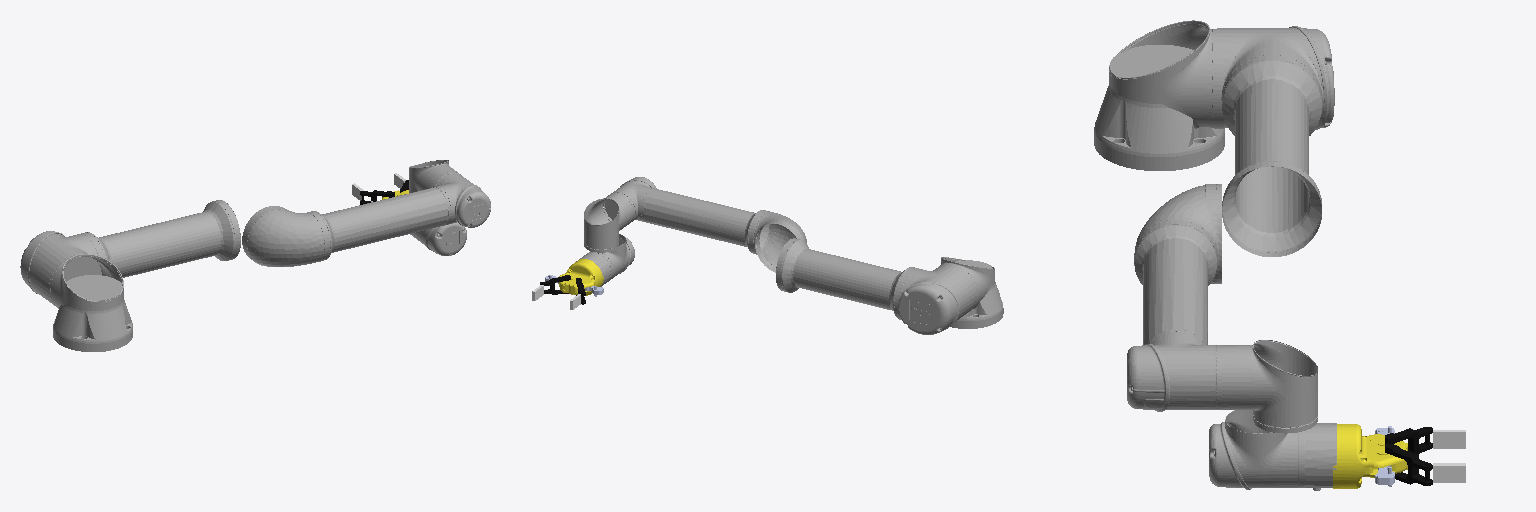
--- Render facts (derived) ---
The picture shows the robot from 3 angles, left to right: view 1: azimuth 30°, elevation 25°; view 2: azimuth 150°, elevation 25°; view 3: azimuth 270°, elevation 25°; orthographic projection.
Model ur5e with 23 links and 22 joints (10 revolute, 2 prismatic, 10 fixed), rooted at base_link, posed every joint at zero.
Visible links, largest first — view 1: forearm_link, upper_arm_link, base_link, shoulder_link, wrist_2_link, wrist_1_link; view 2: upper_arm_link, forearm_link, wrist_1_link, base_link, robotiq_2f_85_base, shoulder_link, wrist_2_link; view 3: upper_arm_link, forearm_link, base_link, wrist_1_link, shoulder_link, wrist_2_link, robotiq_2f_85_base, wrist_3_link, robotiq_2f_85_left_spring_link, robotiq_2f_85_right_spring_link, robotiq_2f_85_left_pad, robotiq_2f_85_right_pad.
Link boxes in pixels (x1,y1,x2,y2): forearm_link: (242,172,490,266); upper_arm_link: (20,200,282,304); base_link: (53,275,132,351); shoulder_link: (49,254,123,310); wrist_2_link: (410,222,466,255); wrist_1_link: (409,160,460,192); upper_arm_link: (756,220,975,334); forearm_link: (603,177,806,272); wrist_1_link: (584,194,633,252); base_link: (951,260,1003,328); robotiq_2f_85_base: (559,259,603,295); shoulder_link: (939,257,994,311); wrist_2_link: (589,234,634,281); upper_arm_link: (1205,26,1334,256); forearm_link: (1127,184,1221,411); base_link: (1094,45,1224,170); wrist_1_link: (1222,340,1317,433); shoulder_link: (1109,20,1223,128); wrist_2_link: (1209,410,1304,489); robotiq_2f_85_base: (1333,424,1407,488); wrist_3_link: (1305,423,1336,490); robotiq_2f_85_left_spring_link: (1385,444,1432,485); robotiq_2f_85_right_spring_link: (1385,427,1432,455); robotiq_2f_85_left_pad: (1433,463,1465,482); robotiq_2f_85_right_pad: (1433,430,1465,448).
Bounding box of the posed robot: 0.9619 × 0.4286 × 0.2055 m (x, y, z).
Meshes: 12 distinct files referenced, 12 mesh visuals loaded (10 OBJ); not drawn: 4 (reference not matched to a file when rendering).

The robot description file, URDF, robot "ur5e":
<?xml version="1.0" encoding="utf-8"?>
<robot name="ur5e">
  <link name="base_link">
    <visual>
      <geometry>
        <mesh filename="meshes/ur5e/visual/base.obj"/>
      </geometry>
      <material name="LightGrey">
        <color rgba="0.7 0.7 0.7 1.0"/>
      </material>
    </visual>
    <collision>
      <geometry>
        <mesh filename="meshes/ur5e/collision/base.stl"/>
      </geometry>
    </collision>
    <inertial>
      <mass value="4.0"/>
      <origin rpy="0 0 0" xyz="0.0 0.0 0.0"/>
      <inertia ixx="0.00443333156" ixy="0.0" ixz="0.0" iyy="0.00443333156" iyz="0.0" izz="0.0072"/>
    </inertial>
  </link>
  <joint name="shoulder_pan_joint" type="revolute">
    <safety_controller k_position="100.0" k_velocity="40.0" soft_lower_limit="-1.7628" soft_upper_limit="1.7628"/>
    <parent link="base_link"/>
    <child link="shoulder_link"/>
    <origin rpy="0.0 0.0 0.0" xyz="0.0 0.0 0.083"/>
    <axis xyz="0 0 1"/>
    <limit effort="150.0" lower="-6.28318530718" upper="6.28318530718" velocity="3.14"/>
    <dynamics damping="0.0" friction="0.0"/>
  </joint>
  <link name="shoulder_link">
    <visual>
      <geometry>
        <mesh filename="meshes/ur5e/visual/shoulder.obj"/>
      </geometry>
      <material name="LightGrey">
        <color rgba="0.7 0.7 0.7 0.5"/>
      </material>
    </visual>
    <collision>
      <geometry>
        <mesh filename="meshes/ur5e/collision/shoulder.stl"/>
      </geometry>
    </collision>
    <inertial>
      <mass value="3.7"/>
      <origin rpy="0 0 0" xyz="0.0 0.0 0.0"/>
      <inertia ixx="0.010267495893" ixy="0.0" ixz="0.0" iyy="0.010267495893" iyz="0.0" izz="0.00666"/>
    </inertial>
  </link>
  <joint name="shoulder_lift_joint" type="revolute">
    <safety_controller k_position="100.0" k_velocity="40.0" soft_lower_limit="-1.7628" soft_upper_limit="1.7628"/>
    <parent link="shoulder_link"/>
    <child link="upper_arm_link"/>
    <origin rpy="0.0 1.57079632679 0.0" xyz="0.0 0.13 0.0"/>
    <axis xyz="0 1 0"/>
    <limit effort="150.0" lower="-6.28318530718" upper="6.28318530718" velocity="3.14"/>
    <dynamics damping="0.0" friction="0.0"/>
  </joint>
  <link name="upper_arm_link">
    <visual>
      <geometry>
        <mesh filename="meshes/ur5e/visual/upperarm.obj"/>
      </geometry>
      <material name="LightGrey">
        <color rgba="0.7 0.7 0.7 1.0"/>
      </material>
    </visual>
    <collision>
      <geometry>
        <mesh filename="meshes/ur5e/collision/upperarm.stl"/>
      </geometry>
    </collision>
    <inertial>
      <mass value="8.393"/>
      <origin rpy="0 0 0" xyz="0.0 0.0 0.2125"/>
      <inertia ixx="0.133885781862" ixy="0.0" ixz="0.0" iyy="0.133885781862" iyz="0.0" izz="0.0151074"/>
    </inertial>
  </link>
  <joint name="elbow_joint" type="revolute">
    <safety_controller k_position="100.0" k_velocity="40.0" soft_lower_limit="-1.7628" soft_upper_limit="1.7628"/>
    <parent link="upper_arm_link"/>
    <child link="forearm_link"/>
    <origin rpy="0.0 0.0 0.0" xyz="0.0 -0.111 0.425"/>
    <axis xyz="0 1 0"/>
    <limit effort="150.0" lower="-3.14159265359" upper="3.14159265359" velocity="3.14"/>
    <dynamics damping="0.0" friction="0.0"/>
  </joint>
  <link name="forearm_link">
    <visual>
      <geometry>
        <mesh filename="meshes/ur5e/visual/forearm.obj"/>
      </geometry>
      <material name="LightGrey">
        <color rgba="0.7 0.7 0.7 1.0"/>
      </material>
    </visual>
    <collision>
      <geometry>
        <mesh filename="meshes/ur5e/collision/forearm.stl"/>
      </geometry>
    </collision>
    <inertial>
      <mass value="2.275"/>
      <origin rpy="0 0 0" xyz="0.0 0.0 0.196"/>
      <inertia ixx="0.0311796208615" ixy="0.0" ixz="0.0" iyy="0.0311796208615" iyz="0.0" izz="0.004095"/>
    </inertial>
  </link>
  <joint name="wrist_1_joint" type="revolute">
    <safety_controller k_position="100.0" k_velocity="40.0" soft_lower_limit="-1.7628" soft_upper_limit="1.7628"/>
    <parent link="forearm_link"/>
    <child link="wrist_1_link"/>
    <origin rpy="0.0 1.57079632679 0.0" xyz="0.0 0.0 0.392"/>
    <axis xyz="0 1 0"/>
    <limit effort="28.0" lower="-6.28318530718" upper="6.28318530718" velocity="6.28"/>
    <dynamics damping="0.0" friction="0.0"/>
  </joint>
  <link name="wrist_1_link">
    <visual>
      <geometry>
        <mesh filename="meshes/ur5e/visual/wrist1.obj"/>
      </geometry>
      <material name="LightGrey">
        <color rgba="0.7 0.7 0.7 1.0"/>
      </material>
    </visual>
    <collision>
      <geometry>
        <mesh filename="meshes/ur5e/collision/wrist1.stl"/>
      </geometry>
    </collision>
    <inertial>
      <mass value="1.219"/>
      <origin rpy="0 0 0" xyz="0.0 0.127 0.0"/>
      <inertia ixx="0.00255989897604" ixy="0.0" ixz="0.0" iyy="0.00255989897604" iyz="0.0" izz="0.0021942"/>
    </inertial>
  </link>
  <joint name="wrist_2_joint" type="revolute">
    <safety_controller k_position="100.0" k_velocity="40.0" soft_lower_limit="-1.7628" soft_upper_limit="1.7628"/>
    <parent link="wrist_1_link"/>
    <child link="wrist_2_link"/>
    <origin rpy="0.0 0.0 0.0" xyz="0.0 0.095 0.0"/>
    <axis xyz="0 0 1"/>
    <limit effort="28.0" lower="-6.28318530718" upper="6.28318530718" velocity="6.28"/>
    <dynamics damping="0.0" friction="0.0"/>
  </joint>
  <link name="wrist_2_link">
    <visual>
      <geometry>
        <mesh filename="meshes/ur5e/visual/wrist2.obj"/>
      </geometry>
      <material name="LightGrey">
        <color rgba="0.7 0.7 0.7 1.0"/>
      </material>
    </visual>
    <collision>
      <geometry>
        <mesh filename="meshes/ur5e/collision/wrist2.stl"/>
      </geometry>
    </collision>
    <inertial>
      <mass value="1.219"/>
      <origin rpy="0 0 0" xyz="0.0 0.0 0.1"/>
      <inertia ixx="0.00255989897604" ixy="0.0" ixz="0.0" iyy="0.00255989897604" iyz="0.0" izz="0.0021942"/>
    </inertial>
  </link>
  <joint name="wrist_3_joint" type="revolute">
    <parent link="wrist_2_link"/>
    <child link="wrist_3_link"/>
    <origin rpy="0.0 0.0 0.0" xyz="0.0 0.0 0.1"/>
    <axis xyz="0 1 0"/>
    <limit effort="28.0" lower="-6.28318530718" upper="6.28318530718" velocity="6.28"/>
    <dynamics damping="0.0" friction="0.0"/>
  </joint>
  <link name="wrist_3_link">
    <visual>
      <geometry>
        <mesh filename="meshes/ur5e/visual/wrist3.obj"/>
      </geometry>
      <material name="LightGrey">
        <color rgba="0.7 0.7 0.7 1.0"/>
      </material>
    </visual>
    <collision>
      <geometry>
        <mesh filename="meshes/ur5e/collision/wrist3.stl"/>
      </geometry>
    </collision>
    <inertial>
      <mass value="0.1879"/>
      <origin rpy="1.57079632679 0 0" xyz="0.0 0.0771 0.0"/>
      <inertia ixx="9.89041005217e-05" ixy="0.0" ixz="0.0" iyy="9.89041005217e-05" iyz="0.0" izz="0.0001321171875"/>
    </inertial>
  </link>
  <joint name="ee_fixed_joint" type="fixed">
    <parent link="wrist_3_link"/>
    <child link="ee_link"/>
    <origin rpy="0.0 0.0 1.57079632679" xyz="0.0 0.1 0.0"/>
  </joint>
  <link name="ee_link">
    <collision>
      <geometry>
        <box size="0.01 0.01 0.01"/>
      </geometry>
      <origin rpy="0 0 0" xyz="-0.01 0 0"/>
    </collision>
  </link>
    <link name="grasptarget">
   <inertial>
        <origin rpy="0 0 0" xyz="0 0 0"/>
         <mass value="0.0"/>
         <inertia ixx="0.1" ixy="0" ixz="0" iyy="0.1" iyz="0" izz="0.1"/>
      </inertial>
     </link>
     <joint name="grasptarget_hand" type="fixed">
      <parent link="wrist_3_link"/>
      <child link="grasptarget"/>
      <origin rpy="1.57 0 0" xyz="0 0.25 0.0"/>
    </joint>
  <!-- ROS base_link to UR 'Base' Coordinates transform -->
<!--  <link name="base"/>-->
<!--  <joint name="base_link-base_fixed_joint" type="fixed">-->
<!--    &lt;!&ndash; NOTE: this rotation is only needed as long as base_link itself is-->
<!--                 not corrected wrt the real robot (ie: rotated over 180-->
<!--                 degrees)-->
<!--      &ndash;&gt;-->
<!--    <origin rpy="0 0 -3.14159265359" xyz="0 0 0"/>-->
<!--    <parent link="base_link"/>-->
<!--    <child link="base"/>-->
<!--  </joint>-->
  <!-- Frame coincident with all-zeros TCP on UR controller -->
  <link name="tool0"/>
  <joint name="wrist_3_link-tool0_fixed_joint" type="fixed">
    <origin rpy="-1.57079632679 -1.57079 0" xyz="0 0.09 0"/>
    <parent link="wrist_3_link"/>
    <child link="tool0"/>
  </joint>

  <!-- begin robotiq -->
  <joint name="tool_joint" type="fixed">
    <origin rpy="0.0 0.0 0.0" xyz="0.0 0.0 0.00"/>
    <parent link="tool0"/>
    <child link="robotiq_arg2f_base_link"/>
  </joint>
  <link name="robotiq_ur_coupler">
    <inertial>
      <mass value="0.3"/>
      <origin xyz="0 0 0.00695"/>
      <inertia ixx="0.110299" ixy="0" ixz="0" iyy="0.110299" iyz="0" izz="0.2109375"/>
    </inertial>
  </link>
  <joint name="coupler_joint" type="fixed">
    <origin rpy="0.0 0.0 0.0" xyz="0.0 0.0 -0.0075"/>
    <parent link="tool0"/>
    <child link="robotiq_ur_coupler"/>
  </joint>
  <joint name="robotiq_ur_coupler_robotiq_2f_85_base_joint" type="fixed">
    <origin rpy="0 0 0" xyz="0 0 0"/>
    <parent link="robotiq_ur_coupler"/>
    <child link="robotiq_2f_85_base"/>
  </joint>
  <link name="robotiq_2f_85_base">
    <inertial>
      <mass value="0.01"/>
      <origin xyz="0 0 0.0075"/>
      <inertia ixx="0.00020005" ixy="-4.2442E-10" ixz="-2.9069E-10" iyy="0.00017832" iyz="-3.4402E-08"
               izz="0.00013478"/>
    </inertial>
    <visual>
      <origin rpy="0 -1.5708 0" xyz="0 0 0"/>
      <geometry>
        <mesh filename="robotiq_2f_85_gripper_visualization/meshes/visual/base.obj"/>
      </geometry>
    </visual>
    <collision>
      <origin rpy="0 0 0" xyz="0 0 0.015"/>
      <geometry>
        <cylinder length="0.045" radius="0.04"/>
      </geometry>
    </collision>
    <collision>
      <origin rpy="0 0 0" xyz="0 0 0.06"/>
      <geometry>
        <box size="0.03 0.03 0.06"/>
      </geometry>
    </collision>
  </link>

  <link name="robotiq_arg2f_base_link">
  <contact>
      <friction_anchor/>
      <stiffness value="30000.0"/>
      <damping value="1000.0"/>
      <spinning_friction value="0.1"/>
      <lateral_friction value="1.0"/>
    </contact>
    <inertial>
      <origin rpy="0 0 0" xyz="8.625E-08 -4.6583E-06 0.03145"/>
      <mass value="0.22652"/>
      <inertia ixx="0.00020005" ixy="-4.2442E-10" ixz="-2.9069E-10" iyy="0.00017832" iyz="-3.4402E-08"
               izz="0.00013478"/>
    </inertial>
  </link>
  <link name="robotiq_2f_85_left_driver">
    <contact>
      <friction_anchor/>
      <stiffness value="30000.0"/>
      <damping value="1000.0"/>
      <spinning_friction value="0.1"/>
      <lateral_friction value="1.0"/>
    </contact>
    <inertial>
      <origin xyz="-0.000200000000003065 0.0199435877845359 0.0292245259211331" rpy="0 0 0"/>
      <mass value="0.00853198276973456"/>
      <inertia ixx="2.89328108496468E-06" ixy="-1.57935047237397E-19" ixz="-1.93980378593255E-19"
               iyy="1.86719750325683E-06" iyz="-1.21858577871576E-06" izz="1.21905238907251E-06"/>
    </inertial>
    <visual>
      <origin rpy="0 0 0" xyz="0 0 0"/>
      <geometry>
        <mesh
            filename="robotiq_2f_85_gripper_visualization/legacy/meshes/visual/robotiq_arg2f_85_outer_knuckle.obj"
            scale="0.001 0.001 0.001"/>
      </geometry>
      <material name="">
        <color rgba="0.792156862745098 0.819607843137255 0.933333333333333 1"/>
      </material>
    </visual>
    <collision>
      <origin rpy="0 0 0" xyz="0 0 0"/>
      <geometry>
        <mesh
            filename="robotiq_2f_85_gripper_visualization/legacy/meshes/collision/robotiq_arg2f_85_outer_knuckle.obj"
            scale="0.001 0.001 0.001"/>
      </geometry>
    </collision>
  </link>
  <link name="robotiq_2f_85_left_coupler">
     <contact>
      <friction_anchor/>
      <stiffness value="30000.0"/>
      <damping value="1000.0"/>
      <spinning_friction value="0.1"/>
      <lateral_friction value="1.0"/>
    </contact>
    <!--<inertial>
        <origin xyz="0.00030115855001899 0.0373907951953854 -0.0208027427000385" rpy="0 0 0" />
        <mass value="0.022614240507152" />
        <inertia ixx="1.52518312458174E-05" ixy="9.76583423954399E-10" ixz="-5.43838577022588E-10" iyy="6.17694243867776E-06" iyz="6.78636130740228E-06" izz="1.16494917907219E-05" />
        </inertial> -->
    <visual>
      <origin rpy="0 0 0" xyz="0 0 0"/>
      <geometry>
        <mesh
            filename="robotiq_2f_85_gripper_visualization/legacy/meshes/visual/robotiq_arg2f_85_outer_finger.obj"
            scale="0.001 0.001 0.001"/>
      </geometry>
      <material name="">
        <color rgba="1.0 1.0 0.1 1"/>
      </material>
    </visual>
    <collision>
      <origin rpy="0 0 0" xyz="0 0 0"/>
      <geometry>
        <mesh
            filename="robotiq_2f_85_gripper_visualization/legacy/meshes/collision/robotiq_arg2f_85_outer_finger.obj"
            scale="0.001 0.001 0.001"/>
      </geometry>
    </collision>
  </link>
  <link name="robotiq_2f_85_left_follower">
    <contact>
      <friction_anchor/>
      <stiffness value="30000.0"/>
      <damping value="1000.0"/>
      <spinning_friction value="0.1"/>
      <lateral_friction value="1.0"/>
    </contact>
    <!--<inertial>
        <origin xyz="0.000299999999999317 0.0160078233491243 -0.0136945669206257" rpy="0 0 0" />
        <mass value="0.0104003125914103" />
        <inertia ixx="2.71909453810972E-06" ixy="1.35402465472579E-21" ixz="-7.1817349065269E-22" iyy="7.69100314106116E-07" iyz="6.74715432769696E-07" izz="2.30315190420171E-06" />
        </inertial> -->
    <visual>
      <origin rpy="0 0 0" xyz="0 0 0"/>
      <geometry>
        <mesh
            filename="robotiq_2f_85_gripper_visualization/legacy/meshes/visual/robotiq_arg2f_85_inner_finger.obj"
            scale="0.001 0.001 0.001"/>
      </geometry>
      <material name="">
        <color rgba="0.1 0.1 0.1 1"/>
      </material>
    </visual>
    <collision>
      <origin rpy="0 0 0" xyz="0 0 0"/>
      <geometry>
        <mesh
            filename="robotiq_2f_85_gripper_visualization/legacy/meshes/collision/robotiq_arg2f_85_inner_finger.obj"
            scale="0.001 0.001 0.001"/>
      </geometry>
    </collision>
  </link>
  <link name="robotiq_2f_85_left_pad">
    <contact>
      <friction_anchor/>
      <stiffness value="30000.0"/>
      <damping value="1000.0"/>
      <spinning_friction value="0.1"/>
      <lateral_friction value="1.0"/>
    </contact>
    <visual>
      <origin rpy="0 0 0" xyz="0 0 0"/>
      <geometry>
        <box size="0.022 0.00635 0.0375"/>
      </geometry>
      <material name="">
        <color rgba="0.9 0.9 0.9 1"/>
      </material>
    </visual>
    <collision>
      <origin rpy="0 0 0" xyz="0 0 0"/>
      <geometry>
        <box size="0.022 0.00635 0.0375"/>
      </geometry>
      <material name="">
        <color rgba="0.9 0.0 0.0 1"/>
      </material>
    </collision>
  </link>
  <link name="robotiq_2f_85_left_spring_link">
    <contact>
      <friction_anchor/>
      <stiffness value="30000.0"/>
      <damping value="1000.0"/>
      <spinning_friction value="0.1"/>
      <lateral_friction value="1.0"/>
    </contact>
    <!--<inertial>
        <origin xyz="0.000123011831763771 0.0507850843201817 0.00103968640075166" rpy="0 0 0" />
       <mass value="0.0271177346495152" />
        <inertia ixx="2.61910379223783E-05" ixy="-2.43616858946494E-07" ixz="-6.37789906117123E-09" iyy="2.8270243746167E-06" iyz="-5.37200748039765E-07" izz="2.83695868220296E-05" />
        </inertial> -->
    <visual>
      <origin rpy="0 0 0" xyz="0 0 0"/>
      <geometry>
        <mesh
            filename="robotiq_2f_85_gripper_visualization/legacy/meshes/visual/robotiq_arg2f_85_inner_knuckle.obj"
            scale="0.001 0.001 0.001"/>
      </geometry>
      <material name="">
        <color rgba="0.1 0.1 0.1 1"/>
      </material>
    </visual>
    <collision>
      <origin rpy="0 0 0" xyz="0 0 0"/>
      <geometry>
        <mesh
            filename="robotiq_2f_85_gripper_visualization/legacy/meshes/collision/robotiq_arg2f_85_inner_knuckle.obj"
            scale="0.001 0.001 0.001"/>
      </geometry>
    </collision>
  </link>
  <link name="robotiq_2f_85_right_driver">
    <contact>
      <friction_anchor/>
      <stiffness value="30000.0"/>
      <damping value="1000.0"/>
      <spinning_friction value="0.1"/>
      <lateral_friction value="1.0"/>
    </contact>
    <!--<inertial>
        <origin xyz="-0.000200000000003065 0.0199435877845359 0.0292245259211331" rpy="0 0 0" />
        <mass value="0.00853198276973456" />
        <inertia ixx="2.89328108496468E-06" ixy="-1.57935047237397E-19" ixz="-1.93980378593255E-19" iyy="1.86719750325683E-06" iyz="-1.21858577871576E-06" izz="1.21905238907251E-06" />
        </inertial> -->
    <visual>
      <origin rpy="0 0 0" xyz="0 0 0"/>
      <geometry>
        <mesh
            filename="robotiq_2f_85_gripper_visualization/legacy/meshes/visual/robotiq_arg2f_85_outer_knuckle.obj"
            scale="0.001 0.001 0.001"/>
      </geometry>
      <material name="">
        <color rgba="0.792156862745098 0.819607843137255 0.933333333333333 1"/>
      </material>
    </visual>
    <collision>
      <origin rpy="0 0 0" xyz="0 0 0"/>
      <geometry>
        <mesh
            filename="robotiq_2f_85_gripper_visualization/legacy/meshes/collision/robotiq_arg2f_85_outer_knuckle.obj"
            scale="0.001 0.001 0.001"/>
      </geometry>
    </collision>
  </link>
  <link name="robotiq_2f_85_right_coupler">
    <contact>
      <friction_anchor/>
      <stiffness value="30000.0"/>
      <damping value="1000.0"/>
      <spinning_friction value="0.1"/>
      <lateral_friction value="1.0"/>
    </contact>
    <!--<inertial>
        <origin xyz="0.00030115855001899 0.0373907951953854 -0.0208027427000385" rpy="0 0 0" />
        <mass value="0.022614240507152" />
        <inertia ixx="1.52518312458174E-05" ixy="9.76583423954399E-10" ixz="-5.43838577022588E-10" iyy="6.17694243867776E-06" iyz="6.78636130740228E-06" izz="1.16494917907219E-05" />
        </inertial> -->
    <visual>
      <origin rpy="0 0 0" xyz="0 0 0"/>
      <geometry>
        <mesh
            filename="robotiq_2f_85_gripper_visualization/legacy/meshes/visual/robotiq_arg2f_85_outer_finger.obj"
            scale="0.001 0.001 0.001"/>
      </geometry>
      <material name="">
        <color rgba="0.1 0.1 0.1 1"/> 
      </material>
    </visual>
    <collision>
      <origin rpy="0 0 0" xyz="0 0 0"/>
      <geometry>
        <mesh
            filename="robotiq_2f_85_gripper_visualization/legacy/meshes/collision/robotiq_arg2f_85_outer_finger.obj"
            scale="0.001 0.001 0.001"/>
      </geometry>
    </collision>
  </link>
  <link name="robotiq_2f_85_right_follower">
    <contact>
      <friction_anchor/>
      <stiffness value="30000.0"/>
      <damping value="1000.0"/>
      <spinning_friction value="0.1"/>
      <lateral_friction value="1.0"/>
    </contact>
    <!--<inertial>
        <origin xyz="0.000299999999999317 0.0160078233491243 -0.0136945669206257" rpy="0 0 0" />
        <mass value="0.0104003125914103" />
        <inertia ixx="2.71909453810972E-06" ixy="1.35402465472579E-21" ixz="-7.1817349065269E-22" iyy="7.69100314106116E-07" iyz="6.74715432769696E-07" izz="2.30315190420171E-06" />
        </inertial> -->
    <visual>
      <origin rpy="0 0 0" xyz="0 0 0"/>
      <geometry>
        <mesh
            filename="robotiq_2f_85_gripper_visualization/legacy/meshes/visual/robotiq_arg2f_85_inner_finger.obj"
            scale="0.001 0.001 0.001"/>
      </geometry>
      <material name="">
        <color rgba="0.1 0.1 0.1 1"/>
      </material>
    </visual>
    <collision>
      <origin rpy="0 0 0" xyz="0 0 0"/>
      <geometry>
        <mesh
            filename="robotiq_2f_85_gripper_visualization/legacy/meshes/collision/robotiq_arg2f_85_inner_finger.obj"
            scale="0.001 0.001 0.001"/>
      </geometry>
    </collision>
  </link>
  <link name="robotiq_2f_85_right_pad">
    <contact>
      <friction_anchor/>
      <stiffness value="30000.0"/>
      <damping value="1000.0"/>
      <spinning_friction value="0.1"/>
      <lateral_friction value="1.0"/>
    </contact>
    <visual>
      <origin rpy="0 0 0" xyz="0 0 0"/>
      <geometry>
        <box size="0.022 0.00635 0.0375"/>
      </geometry>
      <material name="">
        <color rgba="0.9 0.9 0.9 1"/>
      </material>
    </visual>
    <collision>
      <origin rpy="0 0 0" xyz="0 0 0"/>
      <geometry>
        <box size="0.022 0.00635 0.0375"/>
      </geometry>
      <material name="">
        <color rgba="0.9 0.0 0.0 1"/>
      </material>
    </collision>
  </link>
  <link name="robotiq_2f_85_right_spring_link">
    <contact>
      <friction_anchor/>
      <stiffness value="30000.0"/>
      <damping value="1000.0"/>
      <spinning_friction value="0.1"/>
      <lateral_friction value="1.0"/>
    </contact>
    <!--<inertial>
        <origin xyz="0.000123011831763771 0.0507850843201817 0.00103968640075166" rpy="0 0 0" />
       <mass value="0.0271177346495152" />
        <inertia ixx="2.61910379223783E-05" ixy="-2.43616858946494E-07" ixz="-6.37789906117123E-09" iyy="2.8270243746167E-06" iyz="-5.37200748039765E-07" izz="2.83695868220296E-05" />
        </inertial> -->
    <visual>
      <origin rpy="0 0 0" xyz="0 0 0"/>
      <geometry>
        <mesh
            filename="robotiq_2f_85_gripper_visualization/legacy/meshes/visual/robotiq_arg2f_85_inner_knuckle.obj"
            scale="0.001 0.001 0.001"/>
      </geometry>
      <material name="">
        <color rgba="0.1 0.1 0.1 1"/>
      </material>
    </visual>
    <collision>
      <origin rpy="0 0 0" xyz="0 0 0"/>
      <geometry>
        <mesh
            filename="robotiq_2f_85_gripper_visualization/legacy/meshes/collision/robotiq_arg2f_85_inner_knuckle.obj"
            scale="0.001 0.001 0.001"/>
      </geometry>
    </collision>
  </link>
  <joint name="robotiq_2f_85_left_driver_mimic_joint" type="revolute">
    <origin rpy="0 0 3.14159265359" xyz="0 -0.0306011 0.054904"/>
    <parent link="robotiq_arg2f_base_link"/>
    <child link="robotiq_2f_85_left_driver"/>
    <axis xyz="1 0 0"/>
    <limit effort="1000" lower="0" upper="0.8" velocity="2.0"/>
  </joint>
  <joint name="robotiq_2f_85_left_coupler_joint" type="fixed">
    <origin rpy="0 0 0" xyz="0 0.0315 -0.0041"/>
    <parent link="robotiq_2f_85_left_driver"/>
    <child link="robotiq_2f_85_left_coupler"/>
    <axis xyz="1 0 0"/>
  </joint>
  <joint name="robotiq_2f_85_left_spring_link_joint" type="revolute">
    <!-- <origin xyz="0 ${reflect * -0.0127} 0.06142" rpy="${pi / 2 + .725} 0 ${(reflect - 1) * pi / 2}" /> -->
    <origin rpy="0 0 3.14159265359" xyz="0 -0.0127 0.06142"/>
    <parent link="robotiq_arg2f_base_link"/>
    <child link="robotiq_2f_85_left_spring_link"/>
    <axis xyz="1 0 0"/>
    <limit effort="1000" lower="0" upper="0.8" velocity="2.0"/>
    <mimic joint="robotiq_2f_85_left_driver_joint" multiplier="1" offset="0"/>
  </joint>
  <!--  <joint name="robotiq_2f_85_left_follower_joint" type="revolute">-->
  <!--    <origin rpy="0 0 0" xyz="0 0.0061 0.0471"/>-->
  <!--    <parent link="robotiq_2f_85_left_coupler"/>-->
  <!--    <child link="robotiq_2f_85_left_follower"/>-->
  <!--    <axis xyz="1 0 0"/>-->
  <!--    <limit effort="1000" lower="-0.8" upper="0" velocity="2.0"/>-->
  <!--    <mimic joint="robotiq_2f_85_left_driver_joint" multiplier="-1" offset="0"/>-->
  <!--  </joint>-->

  <joint name="robotiq_2f_85_left_driver_joint" type="prismatic">
    <origin rpy="0 0 3.14" xyz="3.35276e-08 -0.0461303 0.137834"/>
    <parent link="robotiq_2f_85_base"/>
    <child link="robotiq_2f_85_left_pad"/>
    <axis xyz="8.31983143e-08 -9.52063817e-01 3.05899474e-01"/>
    <limit effort="1000" lower="0" upper="0.0448" velocity="2.0"/>
  </joint>
  <joint name="robotiq_2f_85_left_pad_joint" type="fixed">
    <origin rpy="0 0 0" xyz="0 0.0220203446692936 -0.03242"/>
    <child link="robotiq_2f_85_left_follower"/>
    <parent link="robotiq_2f_85_left_pad"/>
    <axis xyz="0 0 1"/>
  </joint>

  <joint name="robotiq_2f_85_right_driver_mimic_joint" type="revolute">
    <origin rpy="0 0 0" xyz="0 0.0306011 0.054904"/>
    <parent link="robotiq_arg2f_base_link"/>
    <child link="robotiq_2f_85_right_driver"/>
    <axis xyz="1 0 0"/>
    <limit effort="1000" lower="0" upper="0.8" velocity="2.0"/>
    <mimic joint="robotiq_2f_85_left_driver_joint" multiplier="1" offset="0"/>
  </joint>
  <joint name="robotiq_2f_85_right_coupler_joint" type="fixed">
    <origin rpy="0 0 0" xyz="0 0.0315 -0.0041"/>
    <parent link="robotiq_2f_85_right_driver"/>
    <child link="robotiq_2f_85_right_coupler"/>
    <axis xyz="1 0 0"/>
  </joint>
  <joint name="robotiq_2f_85_right_spring_link_joint" type="revolute">
    <!-- <origin xyz="0 ${reflect * -0.0127} 0.06142" rpy="${pi / 2 + .725} 0 ${(reflect - 1) * pi / 2}" /> -->
    <origin rpy="0 0 0.0" xyz="0 0.0127 0.06142"/>
    <parent link="robotiq_arg2f_base_link"/>
    <child link="robotiq_2f_85_right_spring_link"/>
    <axis xyz="1 0 0"/>
    <limit effort="1000" lower="0" upper="0.8" velocity="2.0"/>
    <mimic joint="robotiq_2f_85_left_driver_joint" multiplier="1" offset="0"/>
  </joint>
  <!--  <joint name="robotiq_2f_85_right_follower_joint" type="revolute">-->
  <!--    <origin rpy="0 0 0" xyz="0 0.0061 0.0471"/>-->
  <!--    <parent link="robotiq_2f_85_right_coupler"/>-->
  <!--    <child link="robotiq_2f_85_right_follower"/>-->
  <!--    <axis xyz="1 0 0"/>-->
  <!--    <limit effort="1000" lower="-0.8" upper="0" velocity="2.0"/>-->
  <!--    <mimic joint="robotiq_2f_85_left_driver_joint" multiplier="-1" offset="0"/>-->
  <!--  </joint>-->

  <joint name="robotiq_2f_85_right_driver_joint" type="prismatic">
    <origin rpy="0 0 0" xyz="3.35276e-08 0.0461303 0.137834"/>
    <parent link="robotiq_2f_85_base"/>
    <child link="robotiq_2f_85_right_pad"/>
    <axis xyz="8.31388445e-08 -9.52019331e-01 3.06037896e-01"/>
    <limit effort="1000" lower="0" upper="0.0448" velocity="2.0"/>
  </joint>
  <joint name="robotiq_2f_85_right_pad_joint" type="fixed">
    <origin rpy="0 0 0" xyz="0 0.0220203446692936 -0.03242"/>
    <child link="robotiq_2f_85_right_follower"/>
    <parent link="robotiq_2f_85_right_pad"/>
    <axis xyz="0 0 1"/>
  </joint>

</robot>
